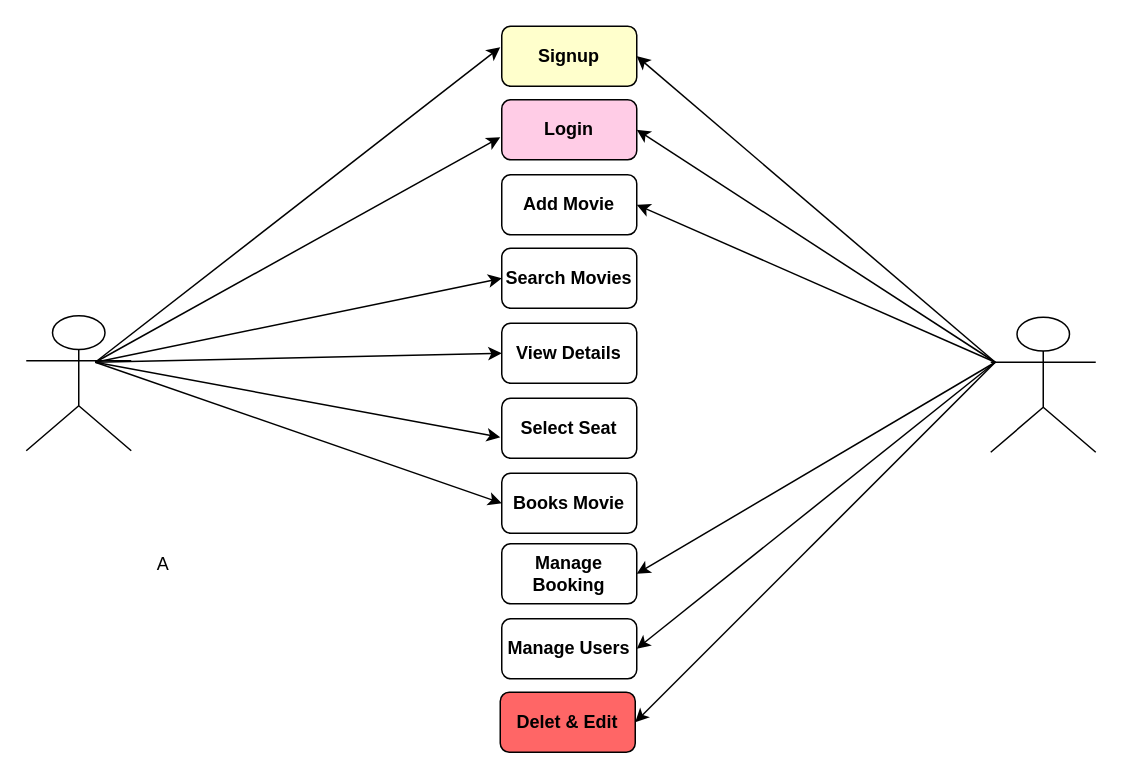
Image size: 1122x779. Some labels were removed from this diagram. The centre of each missing label's shape, as x and y in pixels:
"Admin" goes at point 1042,384.
"Users" goes at point 78,382.
